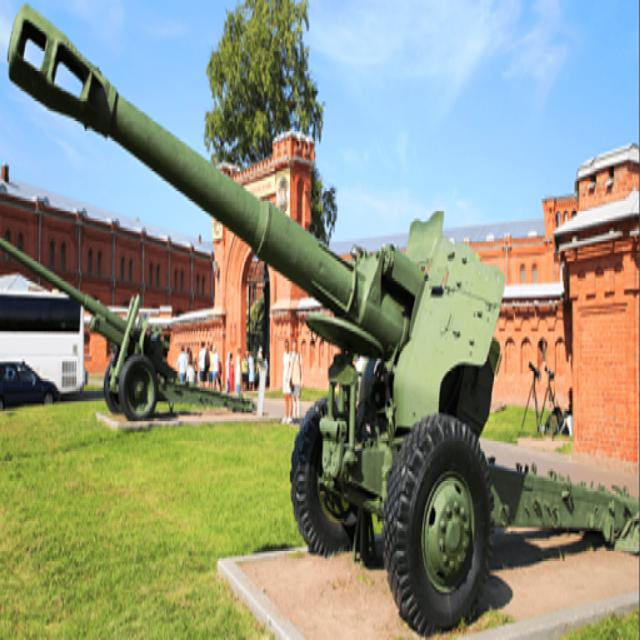ART: (4, 6, 638, 631), (0, 236, 256, 418)
